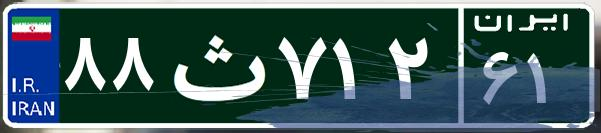1: (330, 28, 385, 110), (525, 38, 570, 115)
2: (385, 28, 445, 110)
6: (475, 38, 525, 113)
7: (273, 28, 330, 110)
8: (57, 26, 110, 107), (110, 28, 158, 105)
ث: (158, 15, 273, 115)
